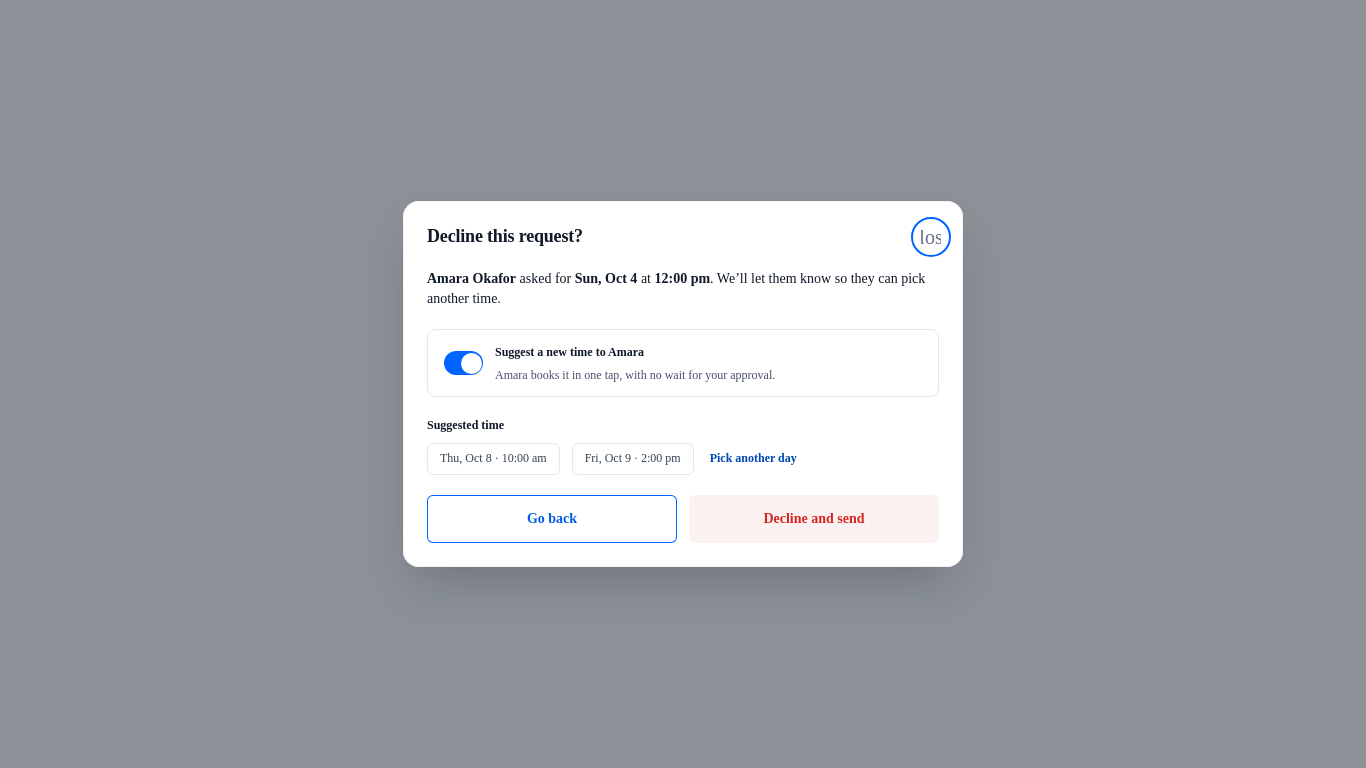
Scenario: the reason is required, and means it › a mentor is not offered "I no longer need it"
Click the switch named "Suggest a new time to Amara" at (464, 363), box [444,351,483,375]
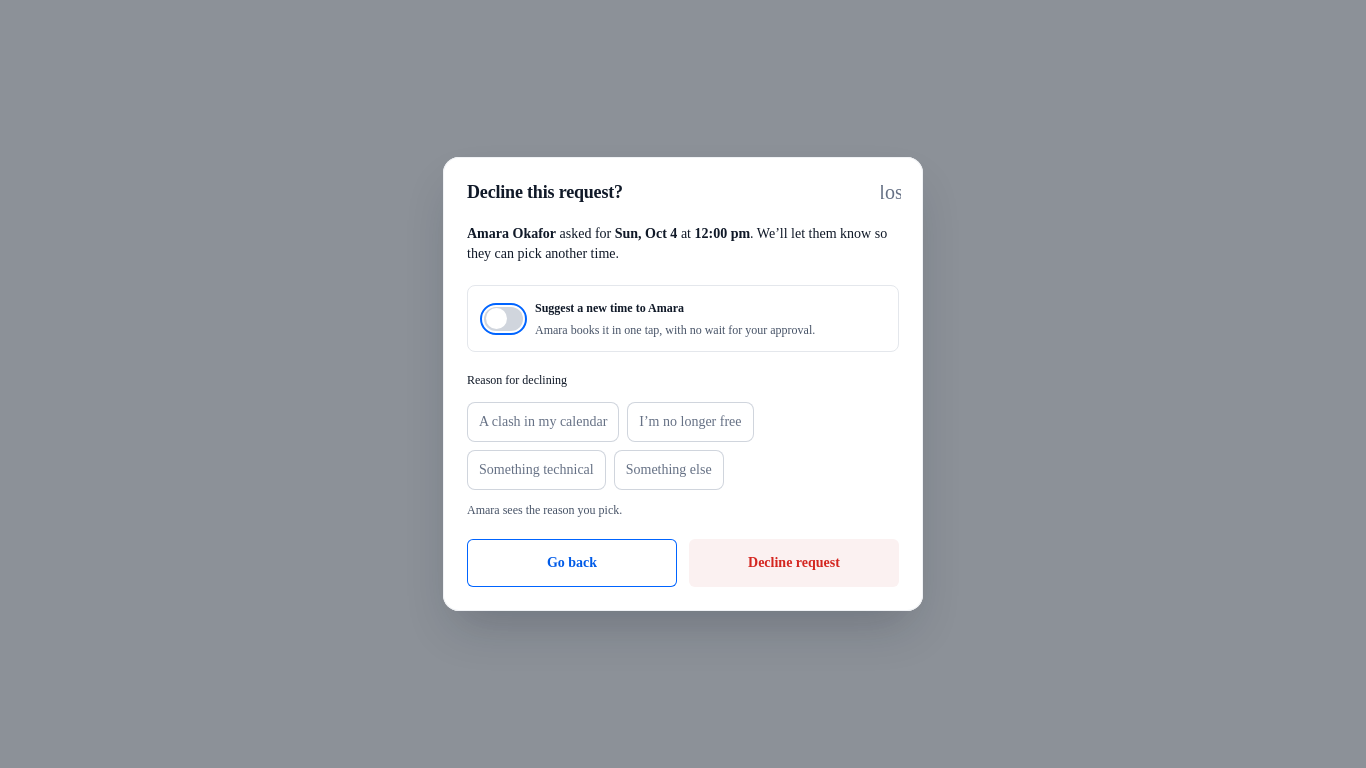
Result: the button "I’m no longer free" is shown at [627,402,754,442]
